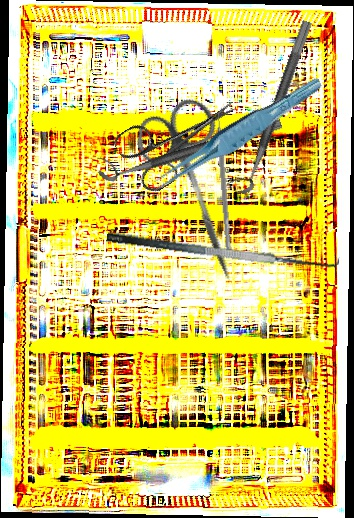Fixation Ring: (224, 14, 314, 197), (94, 102, 283, 186)
Iris Scissors: (128, 92, 271, 295), (110, 74, 252, 199)
Spatula Surgical: (105, 211, 342, 281), (213, 106, 238, 250)
Tissue Forceps: (140, 75, 330, 195)
